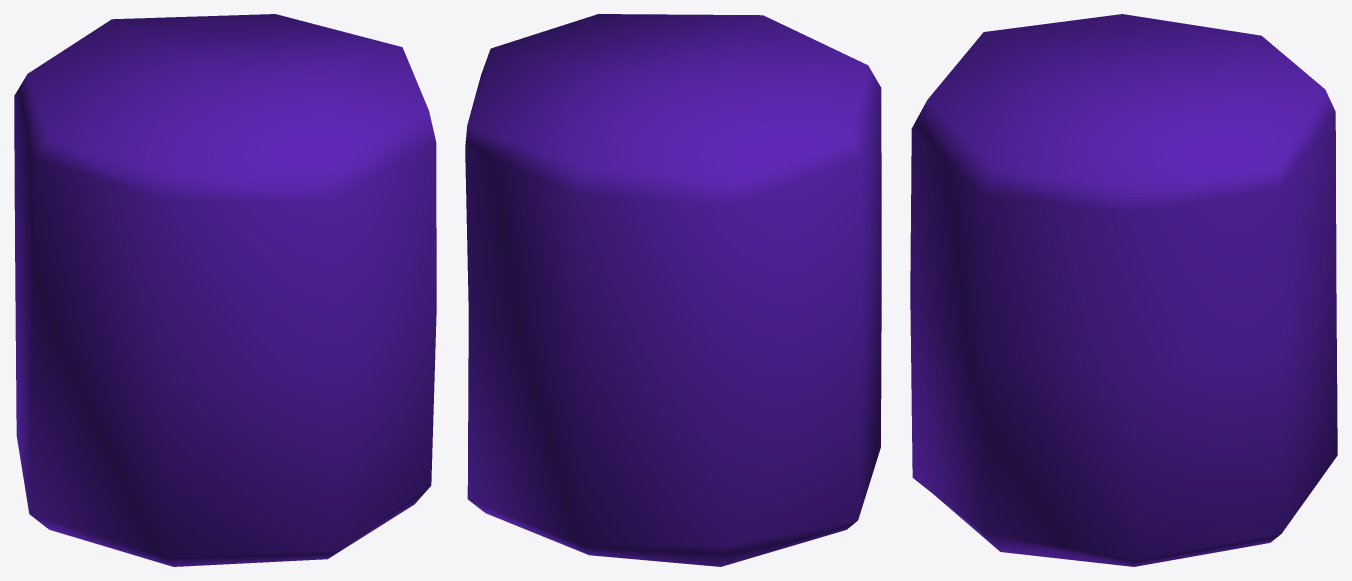
Rendered from column_03.FBX.
3 views of the same model, side by side, from view 1: azimuth 30°, elevation 25°; view 2: azimuth 150°, elevation 25°; view 3: azimuth 270°, elevation 25° (orthographic).
Visible parts, largest first — view 1: column_03; view 2: column_03; view 3: column_03.
Part boxes in pixels (<box>): column_03: <box>14,14,436,566</box>; column_03: <box>465,14,881,566</box>; column_03: <box>910,14,1337,566</box>.
Bounding box in the file's own units: 9.24 × 9.43 × 9.16.
